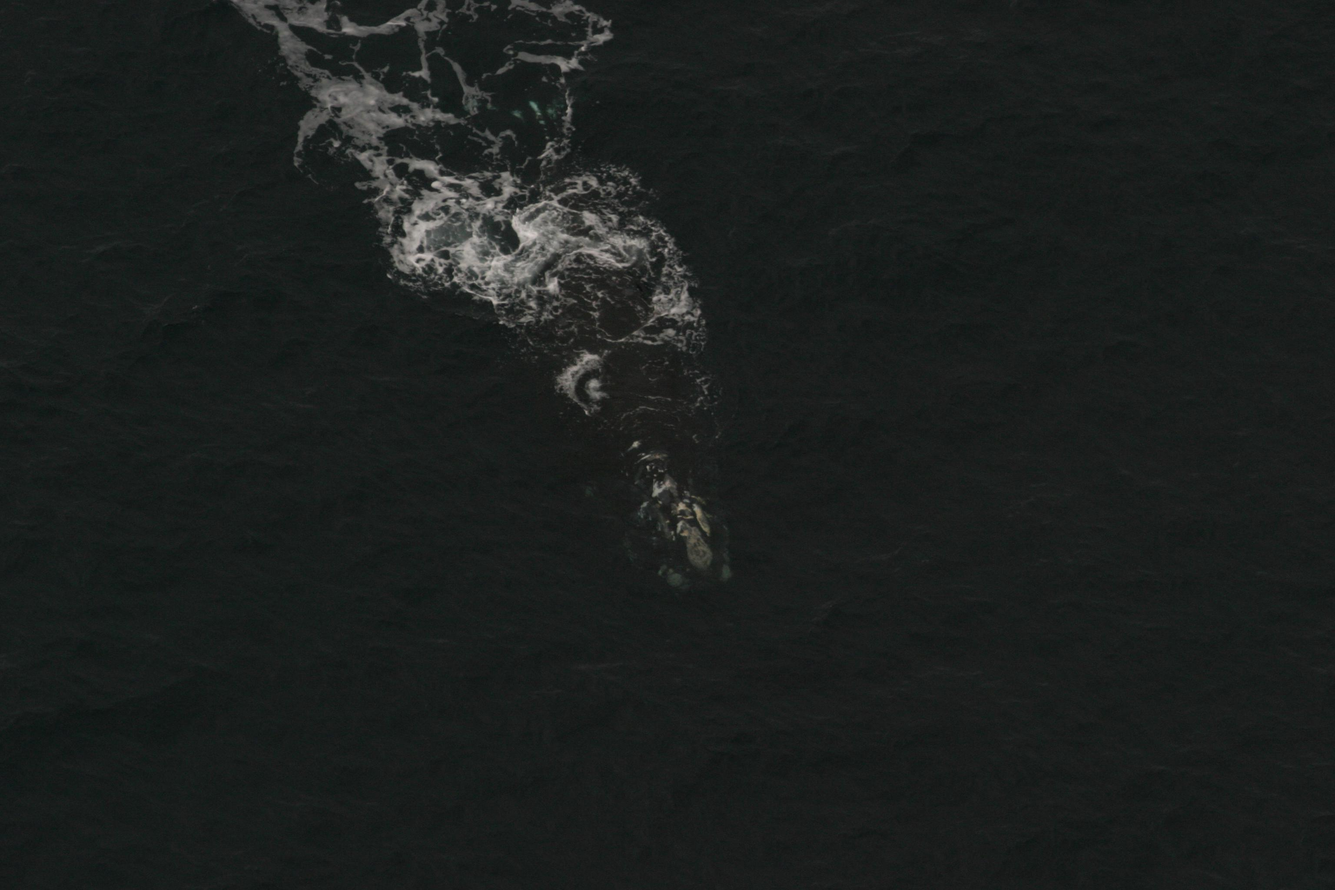whale: (423, 42, 745, 601)
